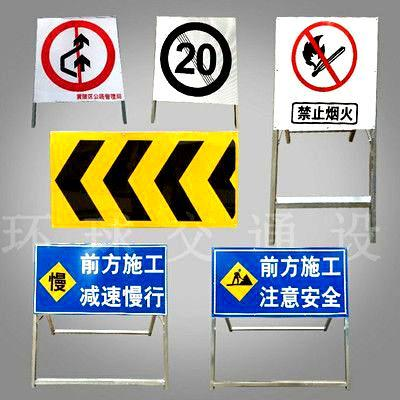sign: (51, 134, 235, 226), (35, 243, 167, 316), (213, 250, 349, 314)
